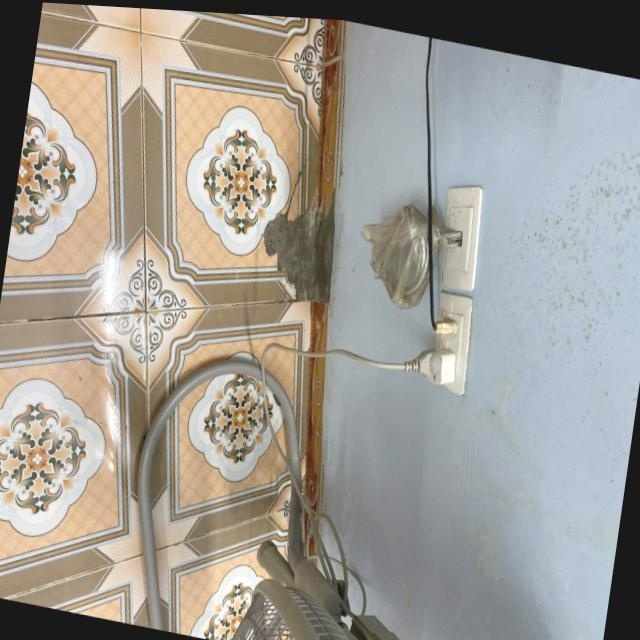outlet: (433, 178, 488, 294), (425, 289, 479, 397)
